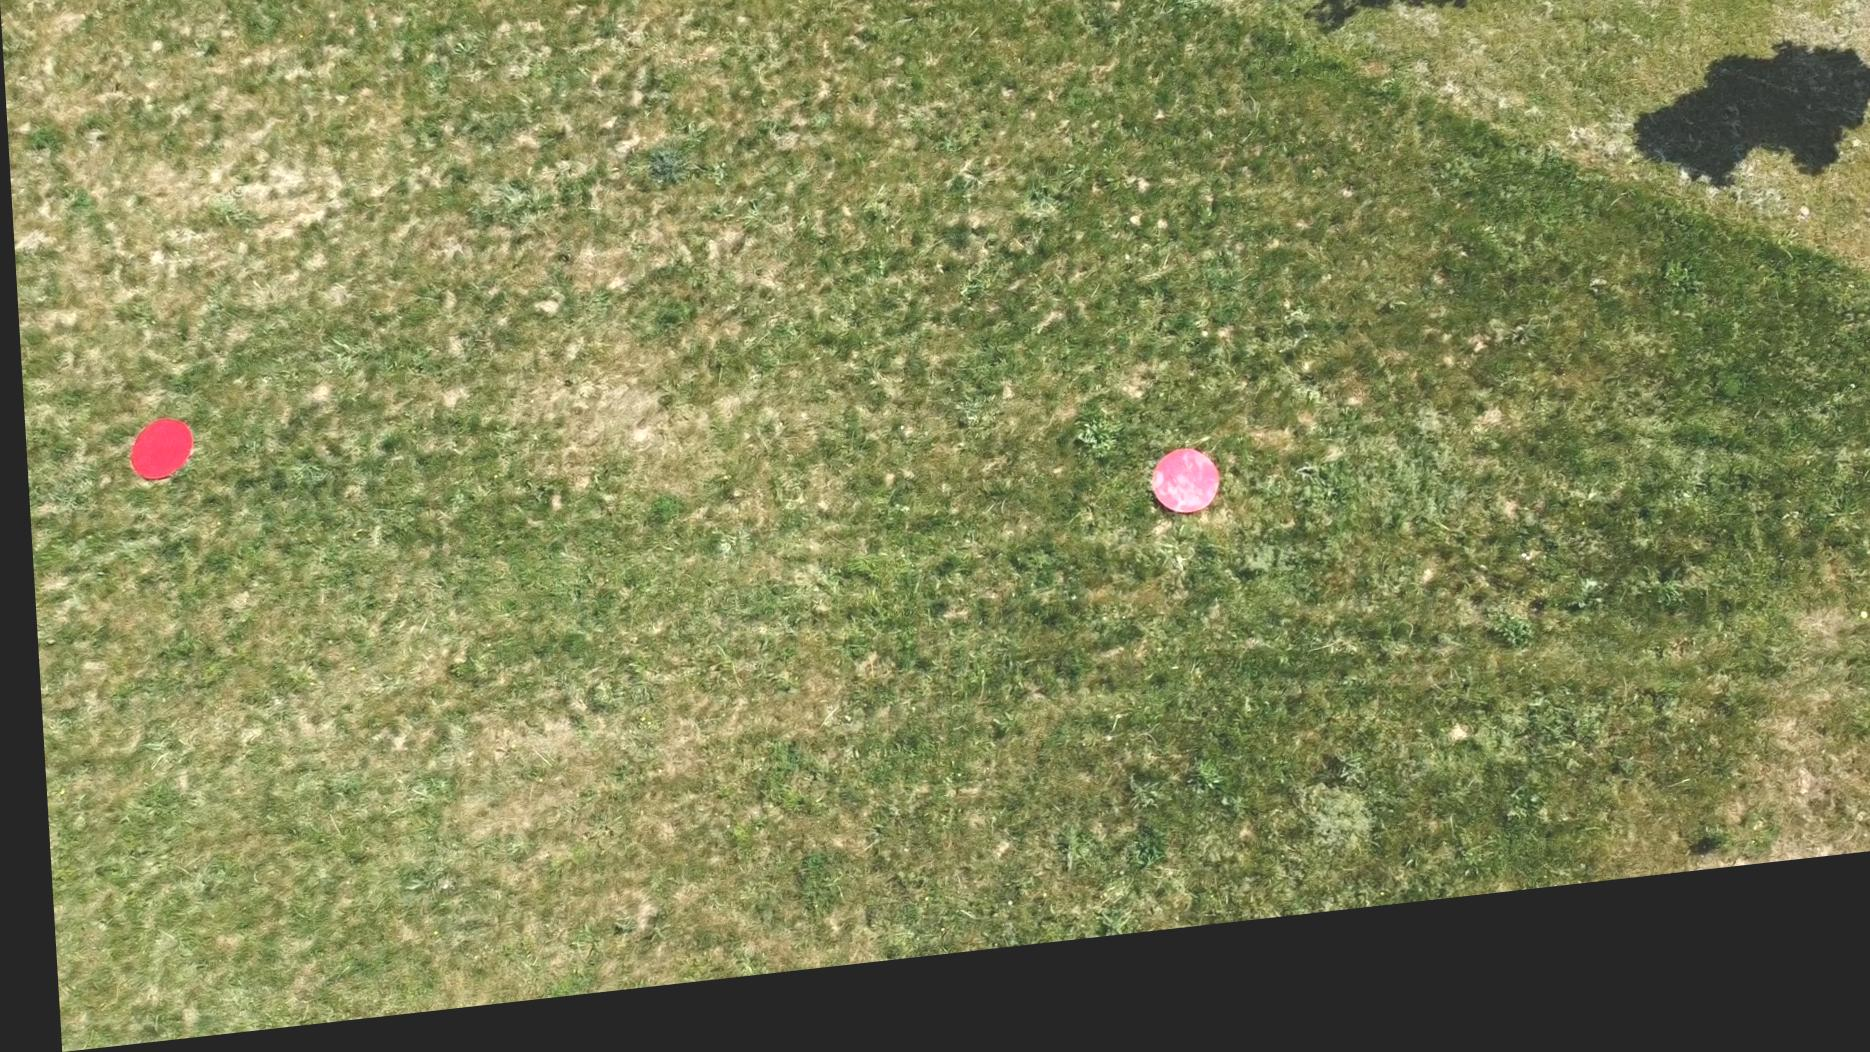Red: (1140, 469, 1216, 547), (119, 416, 194, 488)
